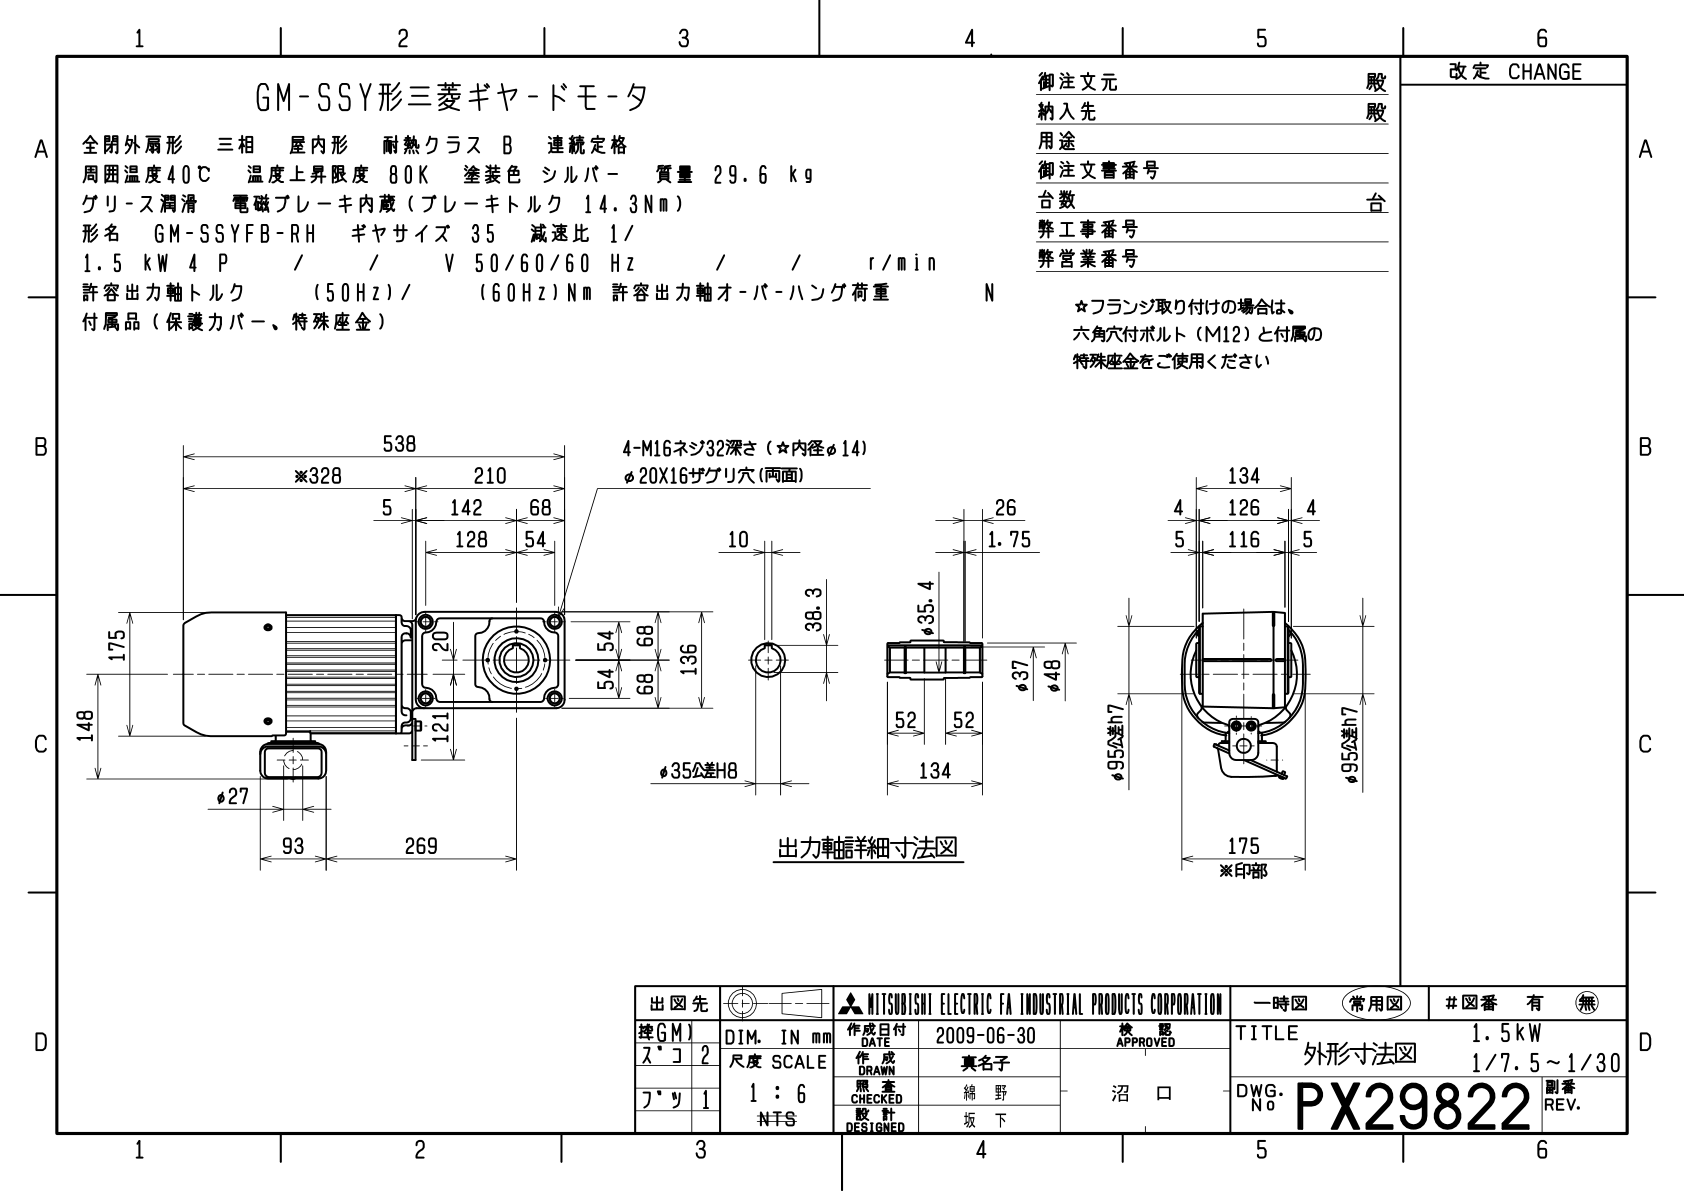GM_SSY_屋内_三相: (12, 10, 1684, 1191)
